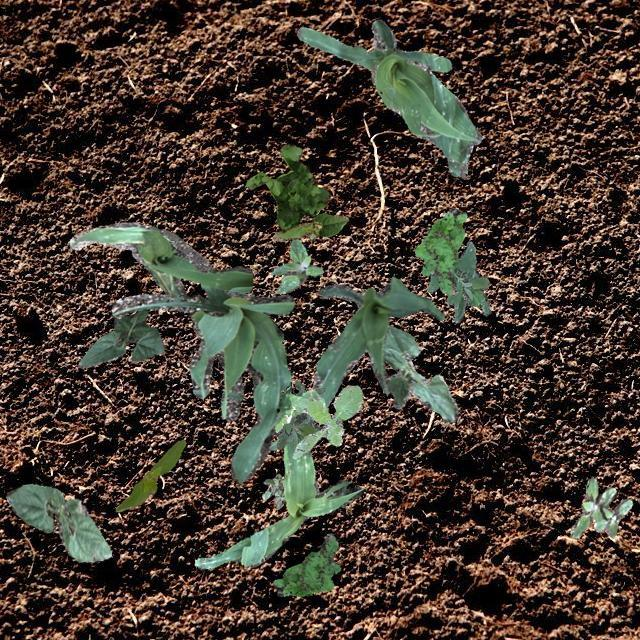crop: (110, 225, 292, 482), (267, 276, 443, 448), (296, 19, 480, 178), (194, 426, 362, 570), (68, 222, 252, 296), (5, 482, 110, 562), (382, 324, 456, 422), (114, 438, 184, 511), (78, 308, 164, 366), (272, 212, 348, 240)
weed: (243, 142, 329, 232), (274, 384, 362, 458), (426, 240, 490, 322), (414, 206, 466, 294), (272, 532, 340, 596), (276, 378, 324, 456), (570, 476, 630, 536), (270, 238, 322, 292), (262, 472, 284, 508)
